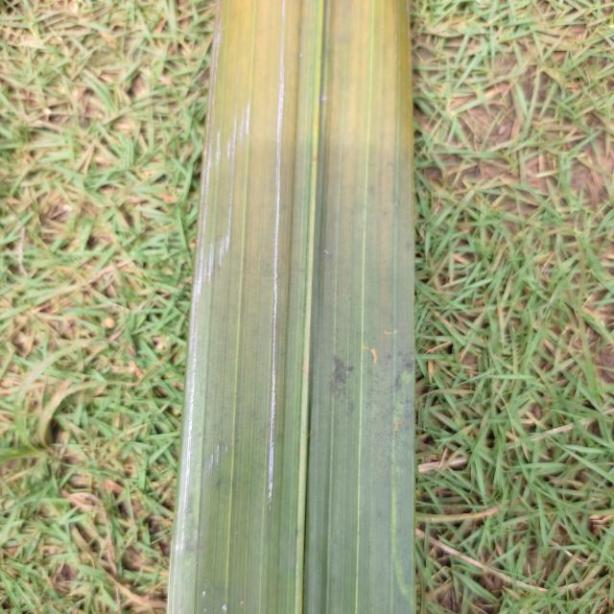Megnesium: (171, 0, 417, 614)
